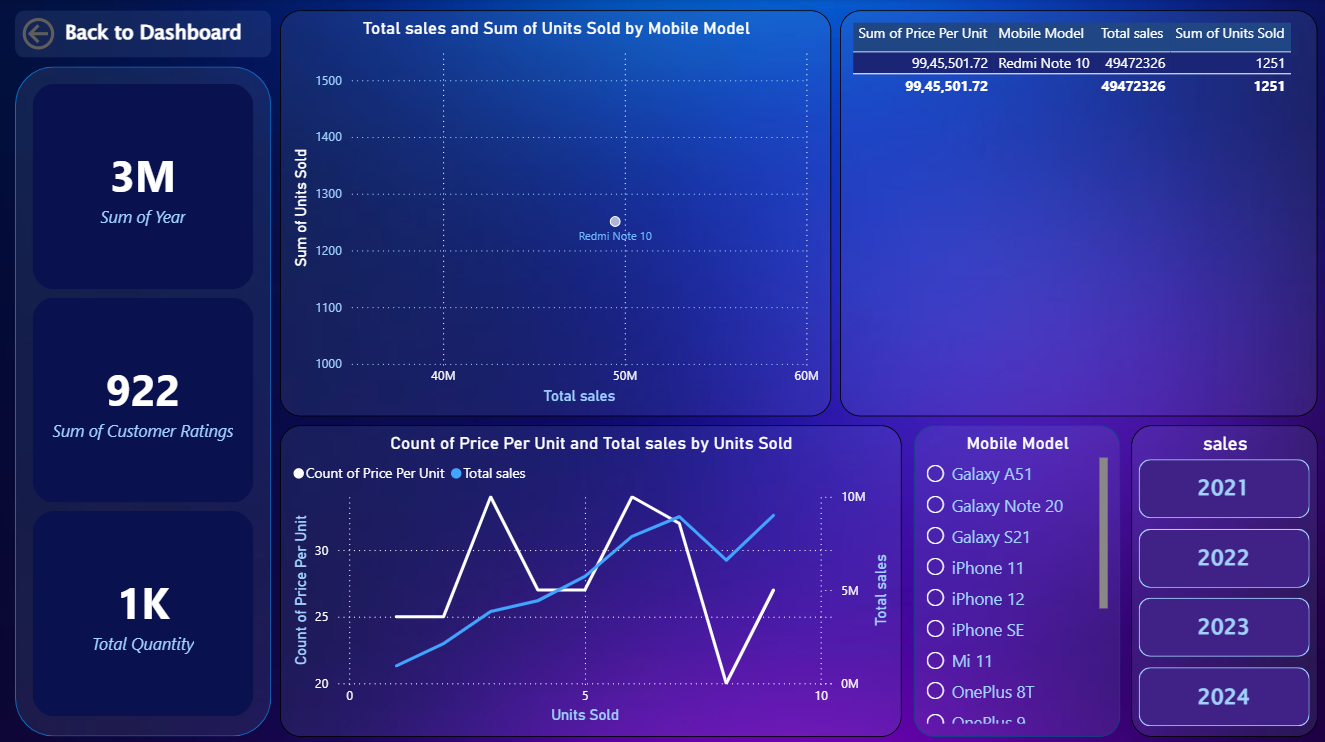

What the dashboard file says about the page in this screenshot:
{"tool":"powerbi","page":{"name":"Exclusive Insights","canvas":[1280,720],"ordinal":1},"visuals":[{"type":"actionButton","box":[14.5,10.9,247.3,45.8],"z":0},{"type":"shape","box":[14.5,65.1,247.3,646.7],"z":1000},{"type":"cardVisual","fields":{"Data":["Sum(Sales_data.Date.Variation.Date Hierarchy.Year)","Sum(Sales_data.Customer Ratings)","Sales_data.Total Quantity"]},"box":[14.5,65.1,247.3,646.7],"z":2000},{"type":"tableEx","fields":{"Values":["Sum(Sales_data.Price Per Unit)","Sales_data.Mobile Model","Sales_data.Total sales","Sum(Sales_data.Units Sold)"]},"box":[810.7,10.9,460.9,392.1],"z":3000},{"type":"scatterChart","fields":{"Category":["Sales_data.Mobile Model"],"X":["Sales_data.Total sales"],"Y":["Sum(Sales_data.Units Sold)"]},"box":[270.2,10.9,532,392.1],"z":4000},{"type":"lineChart","fields":{"Y":["CountNonNull(Sales_data.Price Per Unit)"],"Category":["Sales_data.Units Sold"],"Y2":["Sales_data.Total sales"]},"box":[270.2,411.4,599.6,300.4],"z":5000},{"type":"listSlicer","fields":{"Values":["Sales_data.Mobile Model"]},"box":[881.9,411.4,199.1,300.4],"z":6000},{"type":"pageNavigator","title":"sales ","box":[1091.8,411.4,179.8,300.4],"z":7000}]}

Visuals, with their boxes in screenshot pixels (x1, y1, x2, y2), scaled from the page's 1280x720 canvas onto the 1325x742 screenshot:
actionButton: x1=15, y1=11, x2=271, y2=58
shape: x1=15, y1=67, x2=271, y2=734
cardVisual - Sum(Sales_data.Date.Variation.Date Hierarchy.Year) x Sum(Sales_data.Customer Ratings): x1=15, y1=67, x2=271, y2=734
tableEx - Sum(Sales_data.Price Per Unit) x Sales_data.Mobile Model: x1=839, y1=11, x2=1316, y2=415
scatterChart - Sales_data.Mobile Model x Sales_data.Total sales: x1=280, y1=11, x2=830, y2=415
lineChart - CountNonNull(Sales_data.Price Per Unit) x Sales_data.Units Sold: x1=280, y1=424, x2=900, y2=734
listSlicer - Sales_data.Mobile Model: x1=913, y1=424, x2=1119, y2=734
"sales " pageNavigator: x1=1130, y1=424, x2=1316, y2=734
